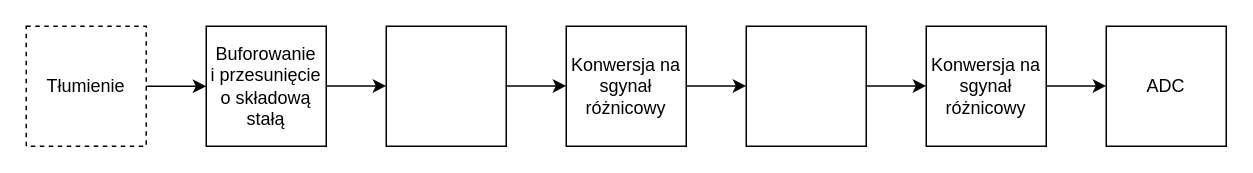
Some shapes in this 1253 by 173 pixel diagram are drawn without their labels. The centre of each missing label's shape, as x and y in pixels:
"Filtr antyaliasingowy" belongs at (x=805, y=85).
"Wzmocnienie" belongs at (x=445, y=85).
